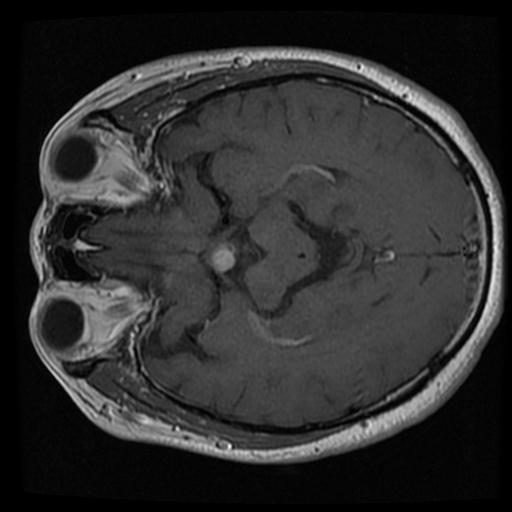pituitary tumour: (206, 244, 237, 273)
